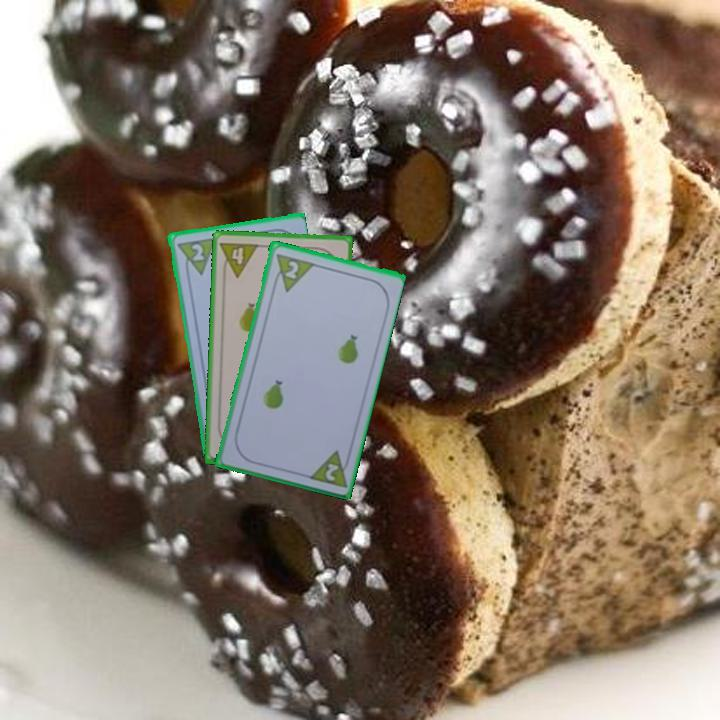2p: (304, 445, 354, 490), (173, 234, 217, 279), (281, 257, 302, 281)
4p: (217, 238, 261, 280)
